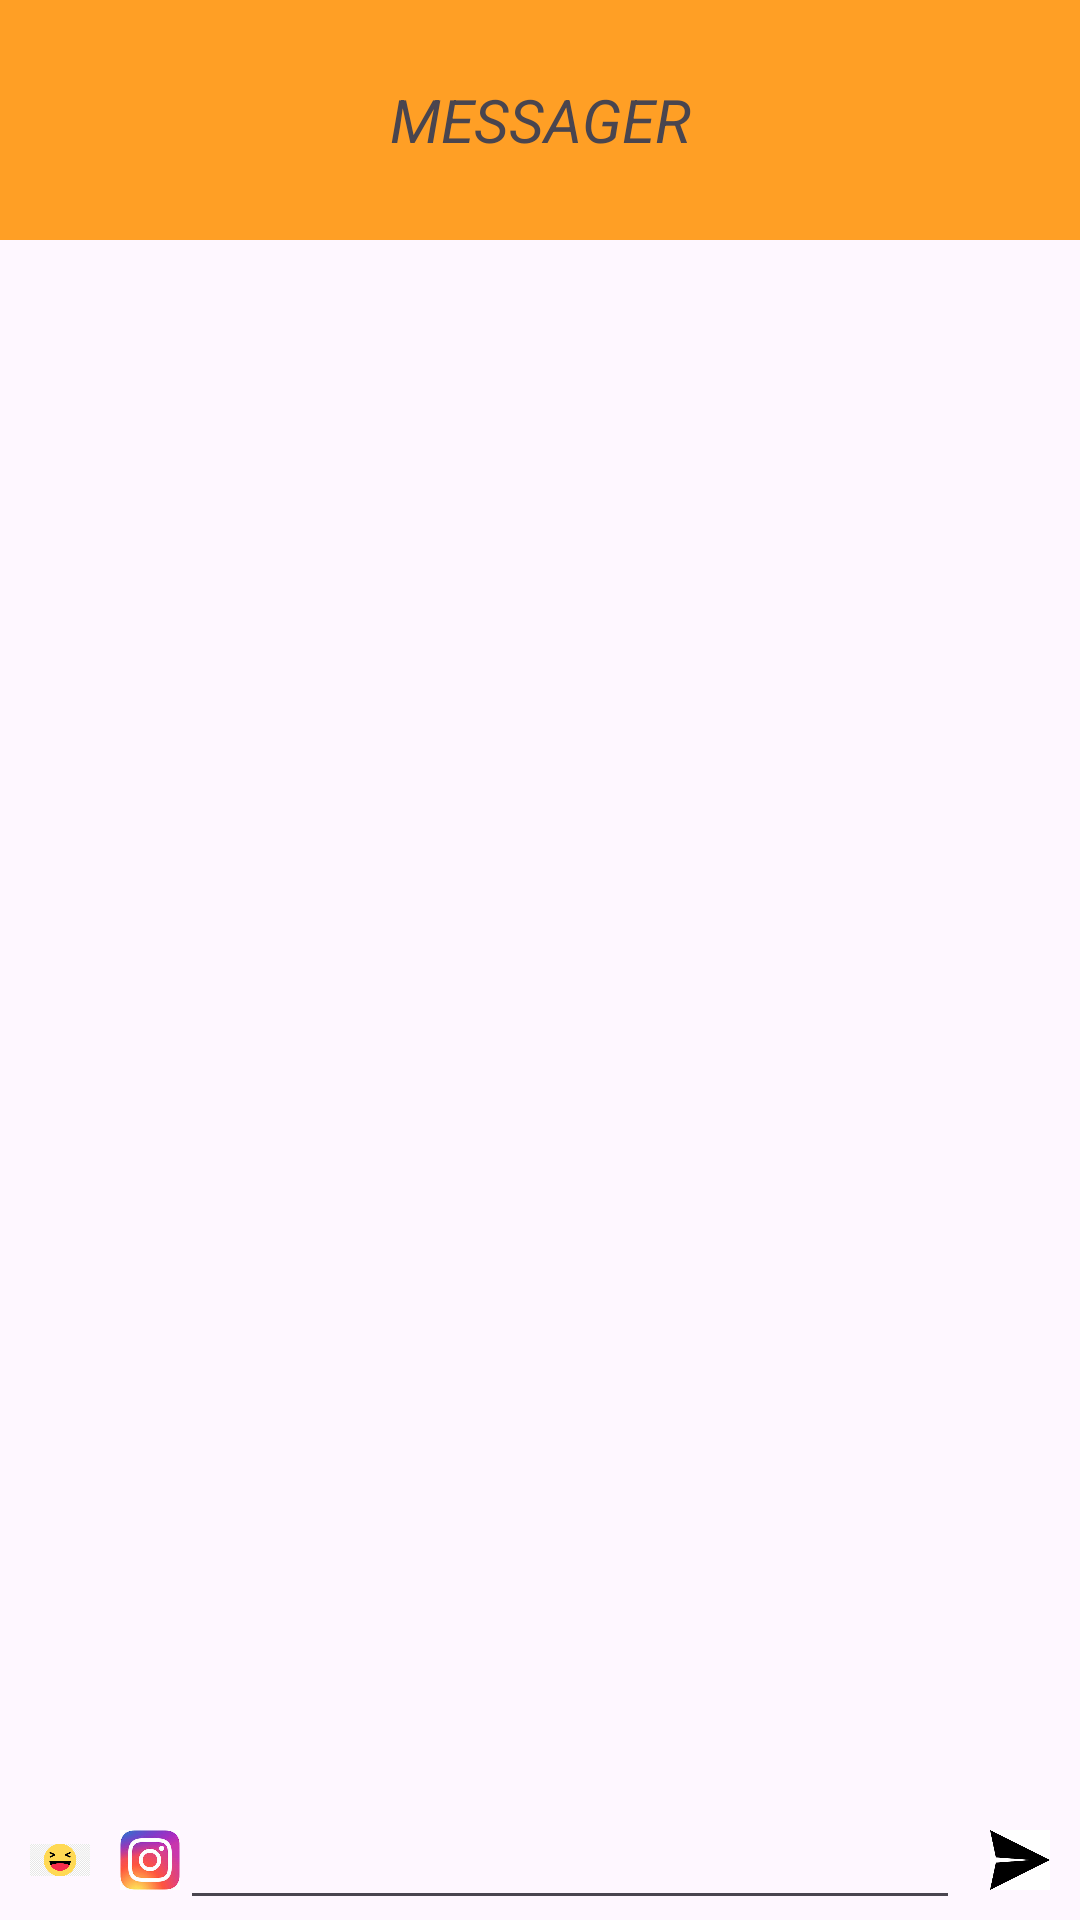

Point at icon controls on the screen. Image size 1080*1920, points as (x,y).
iconsml: (60,1860)
send: (1019,1860)
